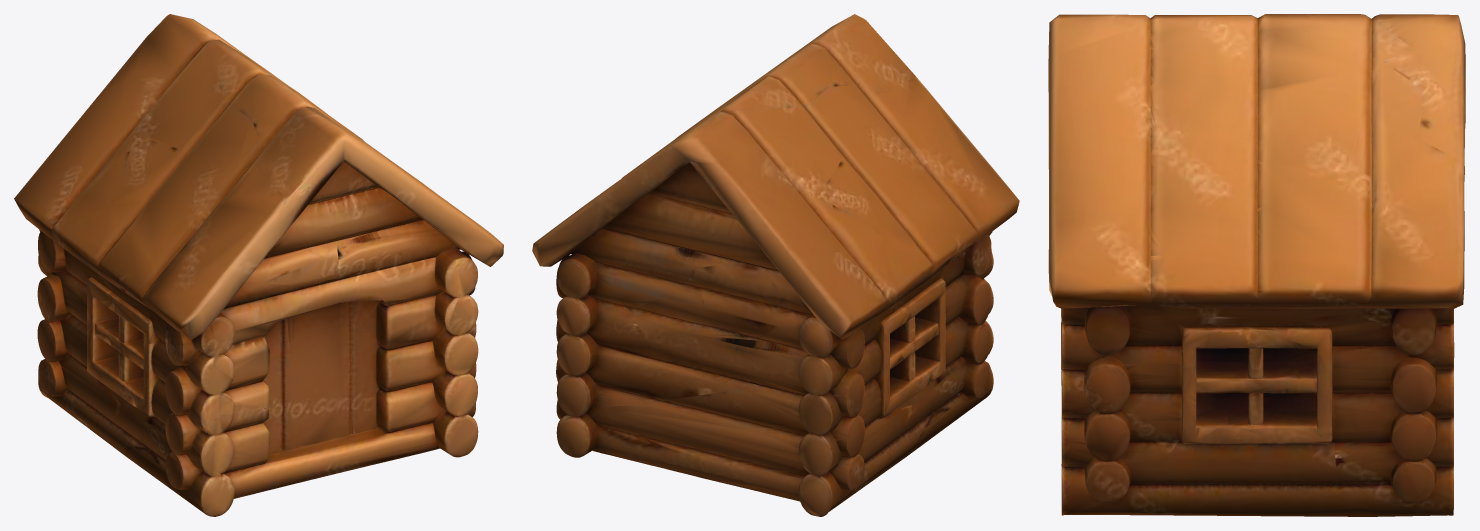
File: cabin_pbr.glb
3 renders of one model, left to right at view 1: azimuth 30°, elevation 25°; view 2: azimuth 150°, elevation 25°; view 3: azimuth 270°, elevation 25°, orthographic. The views are drawn at different scales.
Parts seen in each view (by area): view 1: model; view 2: model; view 3: model.
Part boxes in pixels (x1,y1,x2,y2): model: (14, 14, 503, 516); model: (532, 14, 1019, 516); model: (1048, 14, 1465, 516).
Size of the model in its own units: 1.66 by 1.74 by 1.54.
Materials: 1 (1 with a texture image).
